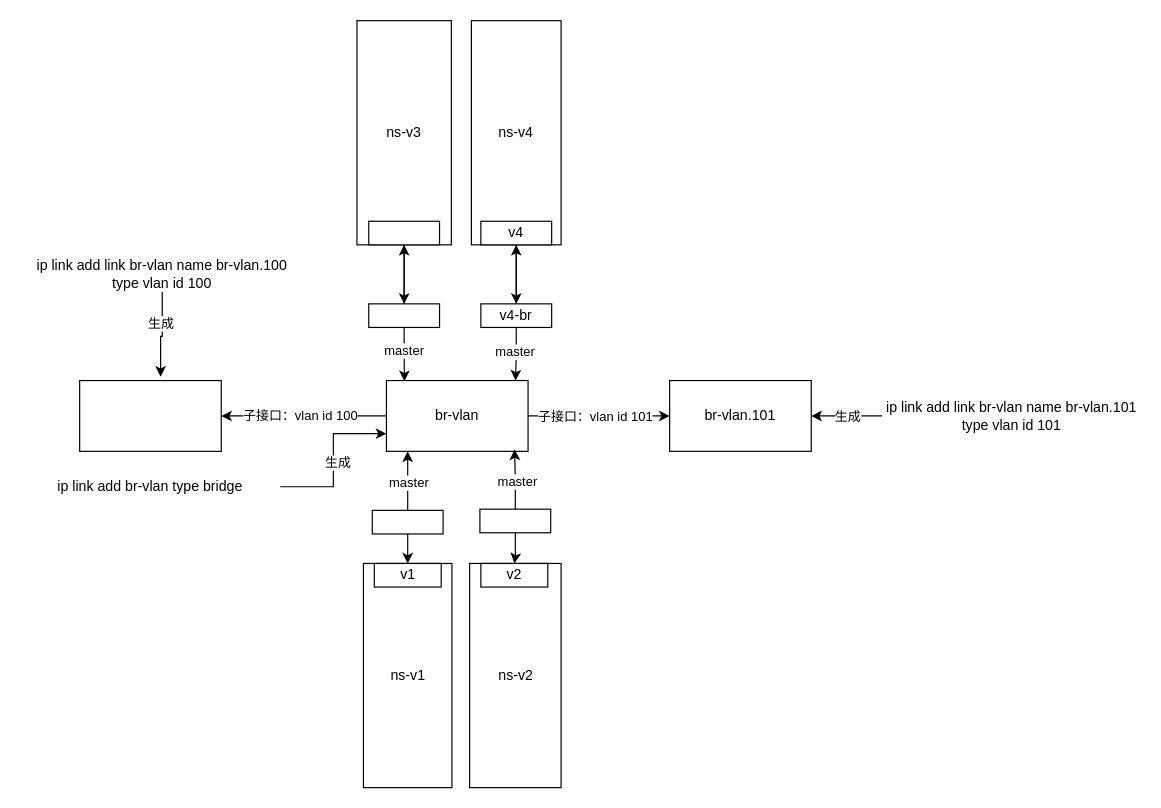
This 1161x808 diagram has some shape labels left out. Here are the shapes that lost their labels. From the top down, the centre of each, then its label:
At point (404, 232): "v3".
At point (404, 315): "v3-br".
At point (149, 415): "br-vlan.100".
At point (407, 521): "v1-br".
At point (515, 520): "v2-br".
